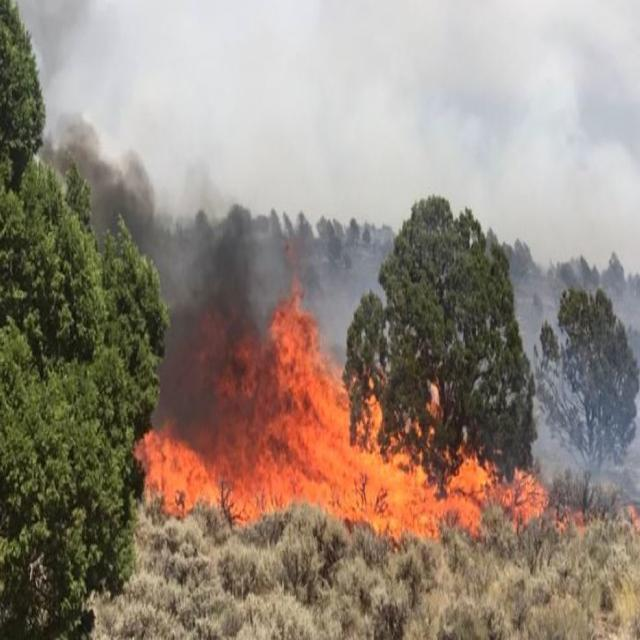Fire: (137, 309, 542, 542)
Smoke: (54, 119, 271, 308)
